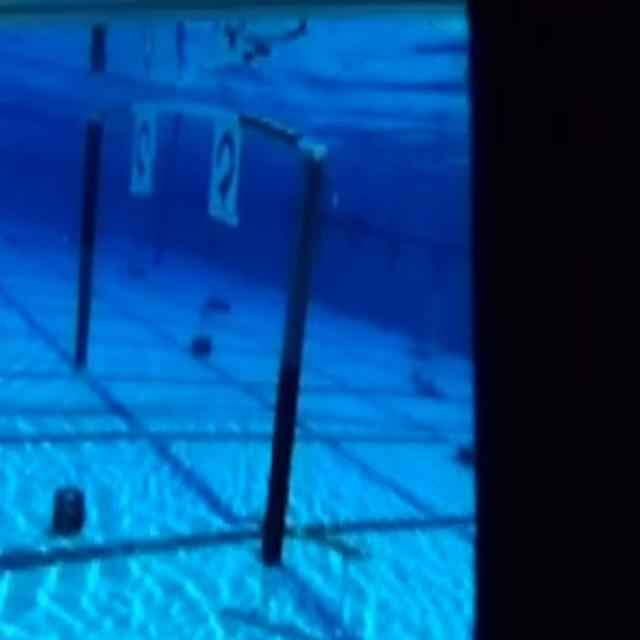Gate: (62, 89, 341, 569)
